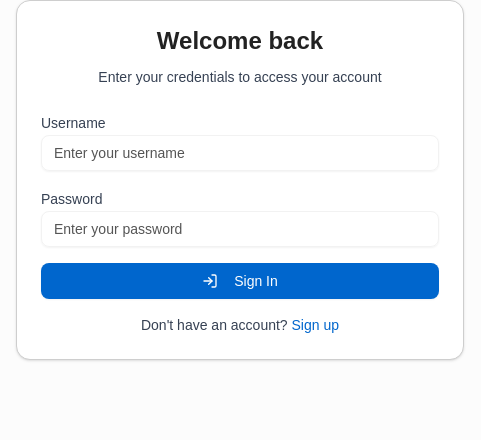
Test: LoginForm › shows error message when login fails
This screenshot has width=481, height=440.
Step 1. Type "john" into the field with placeholder "Enter your username" → (240, 153), box x1=41 y1=135 x2=439 y2=171
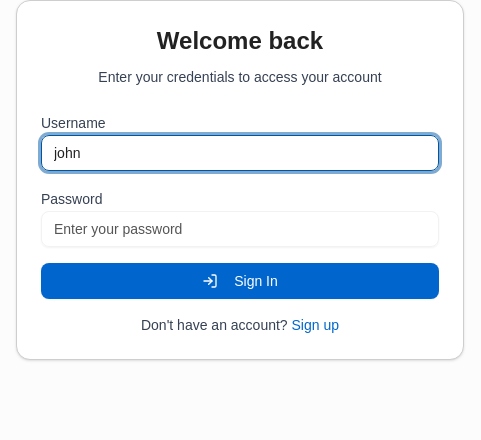
Step 2. Type "secret" into the password field with placeholder "Enter your password" → (240, 229), box x1=41 y1=211 x2=439 y2=247
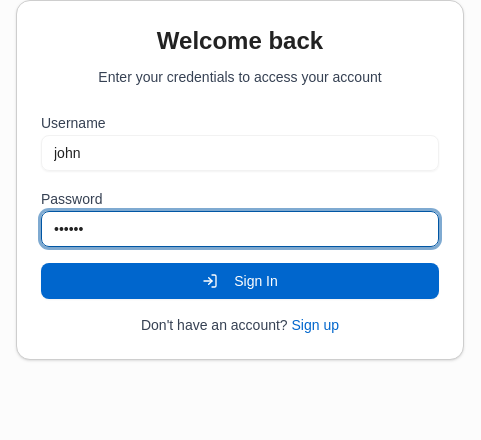
Step 3. Click the button "Sign In" → (240, 281), box x1=41 y1=263 x2=439 y2=299
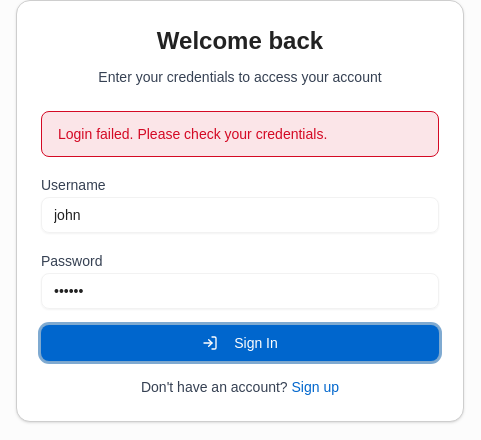
Check: the text "Login failed. Please check your credentials." is shown, box x1=41 y1=111 x2=439 y2=157
